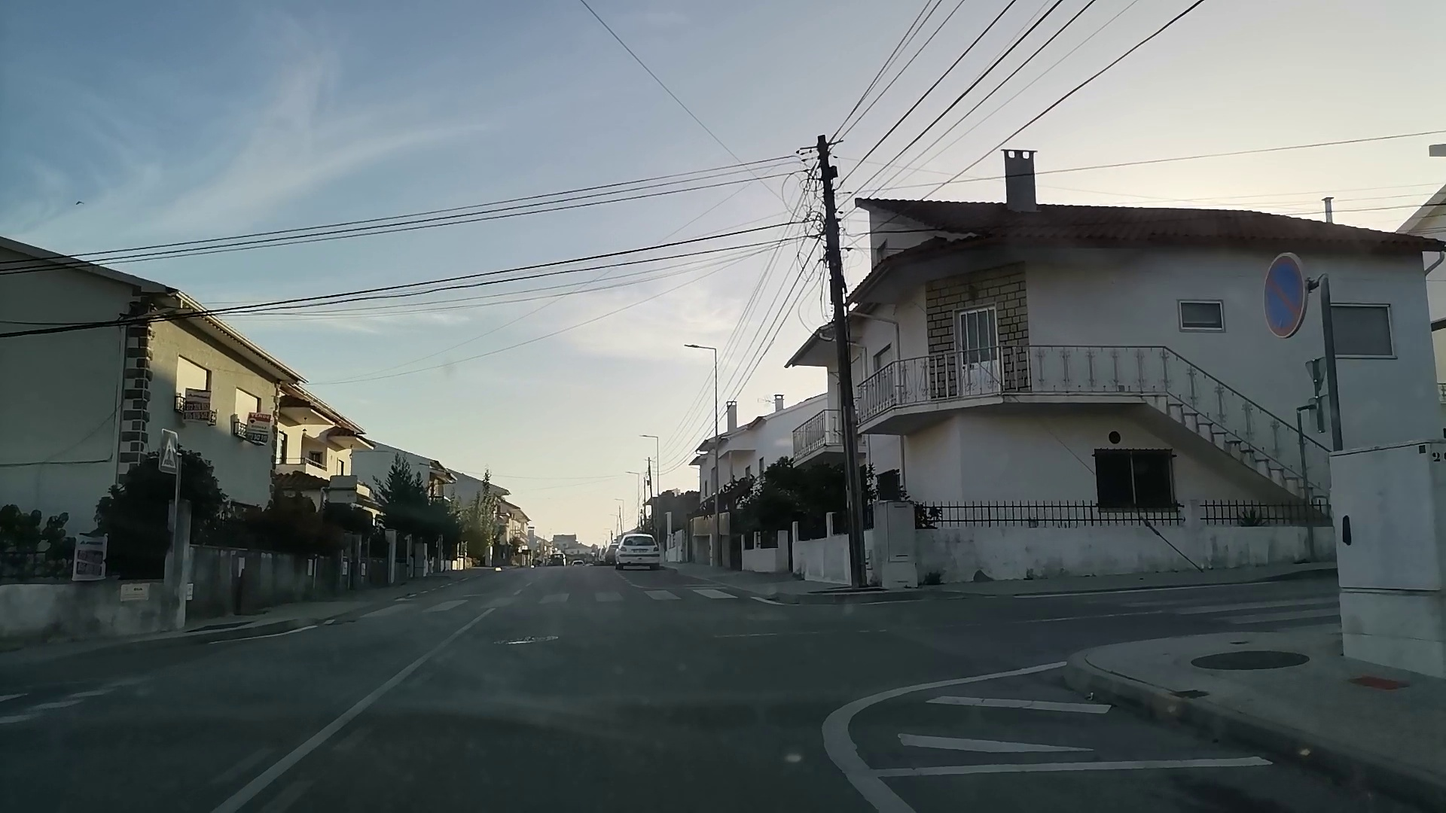Stairs: (358, 585, 742, 616)
